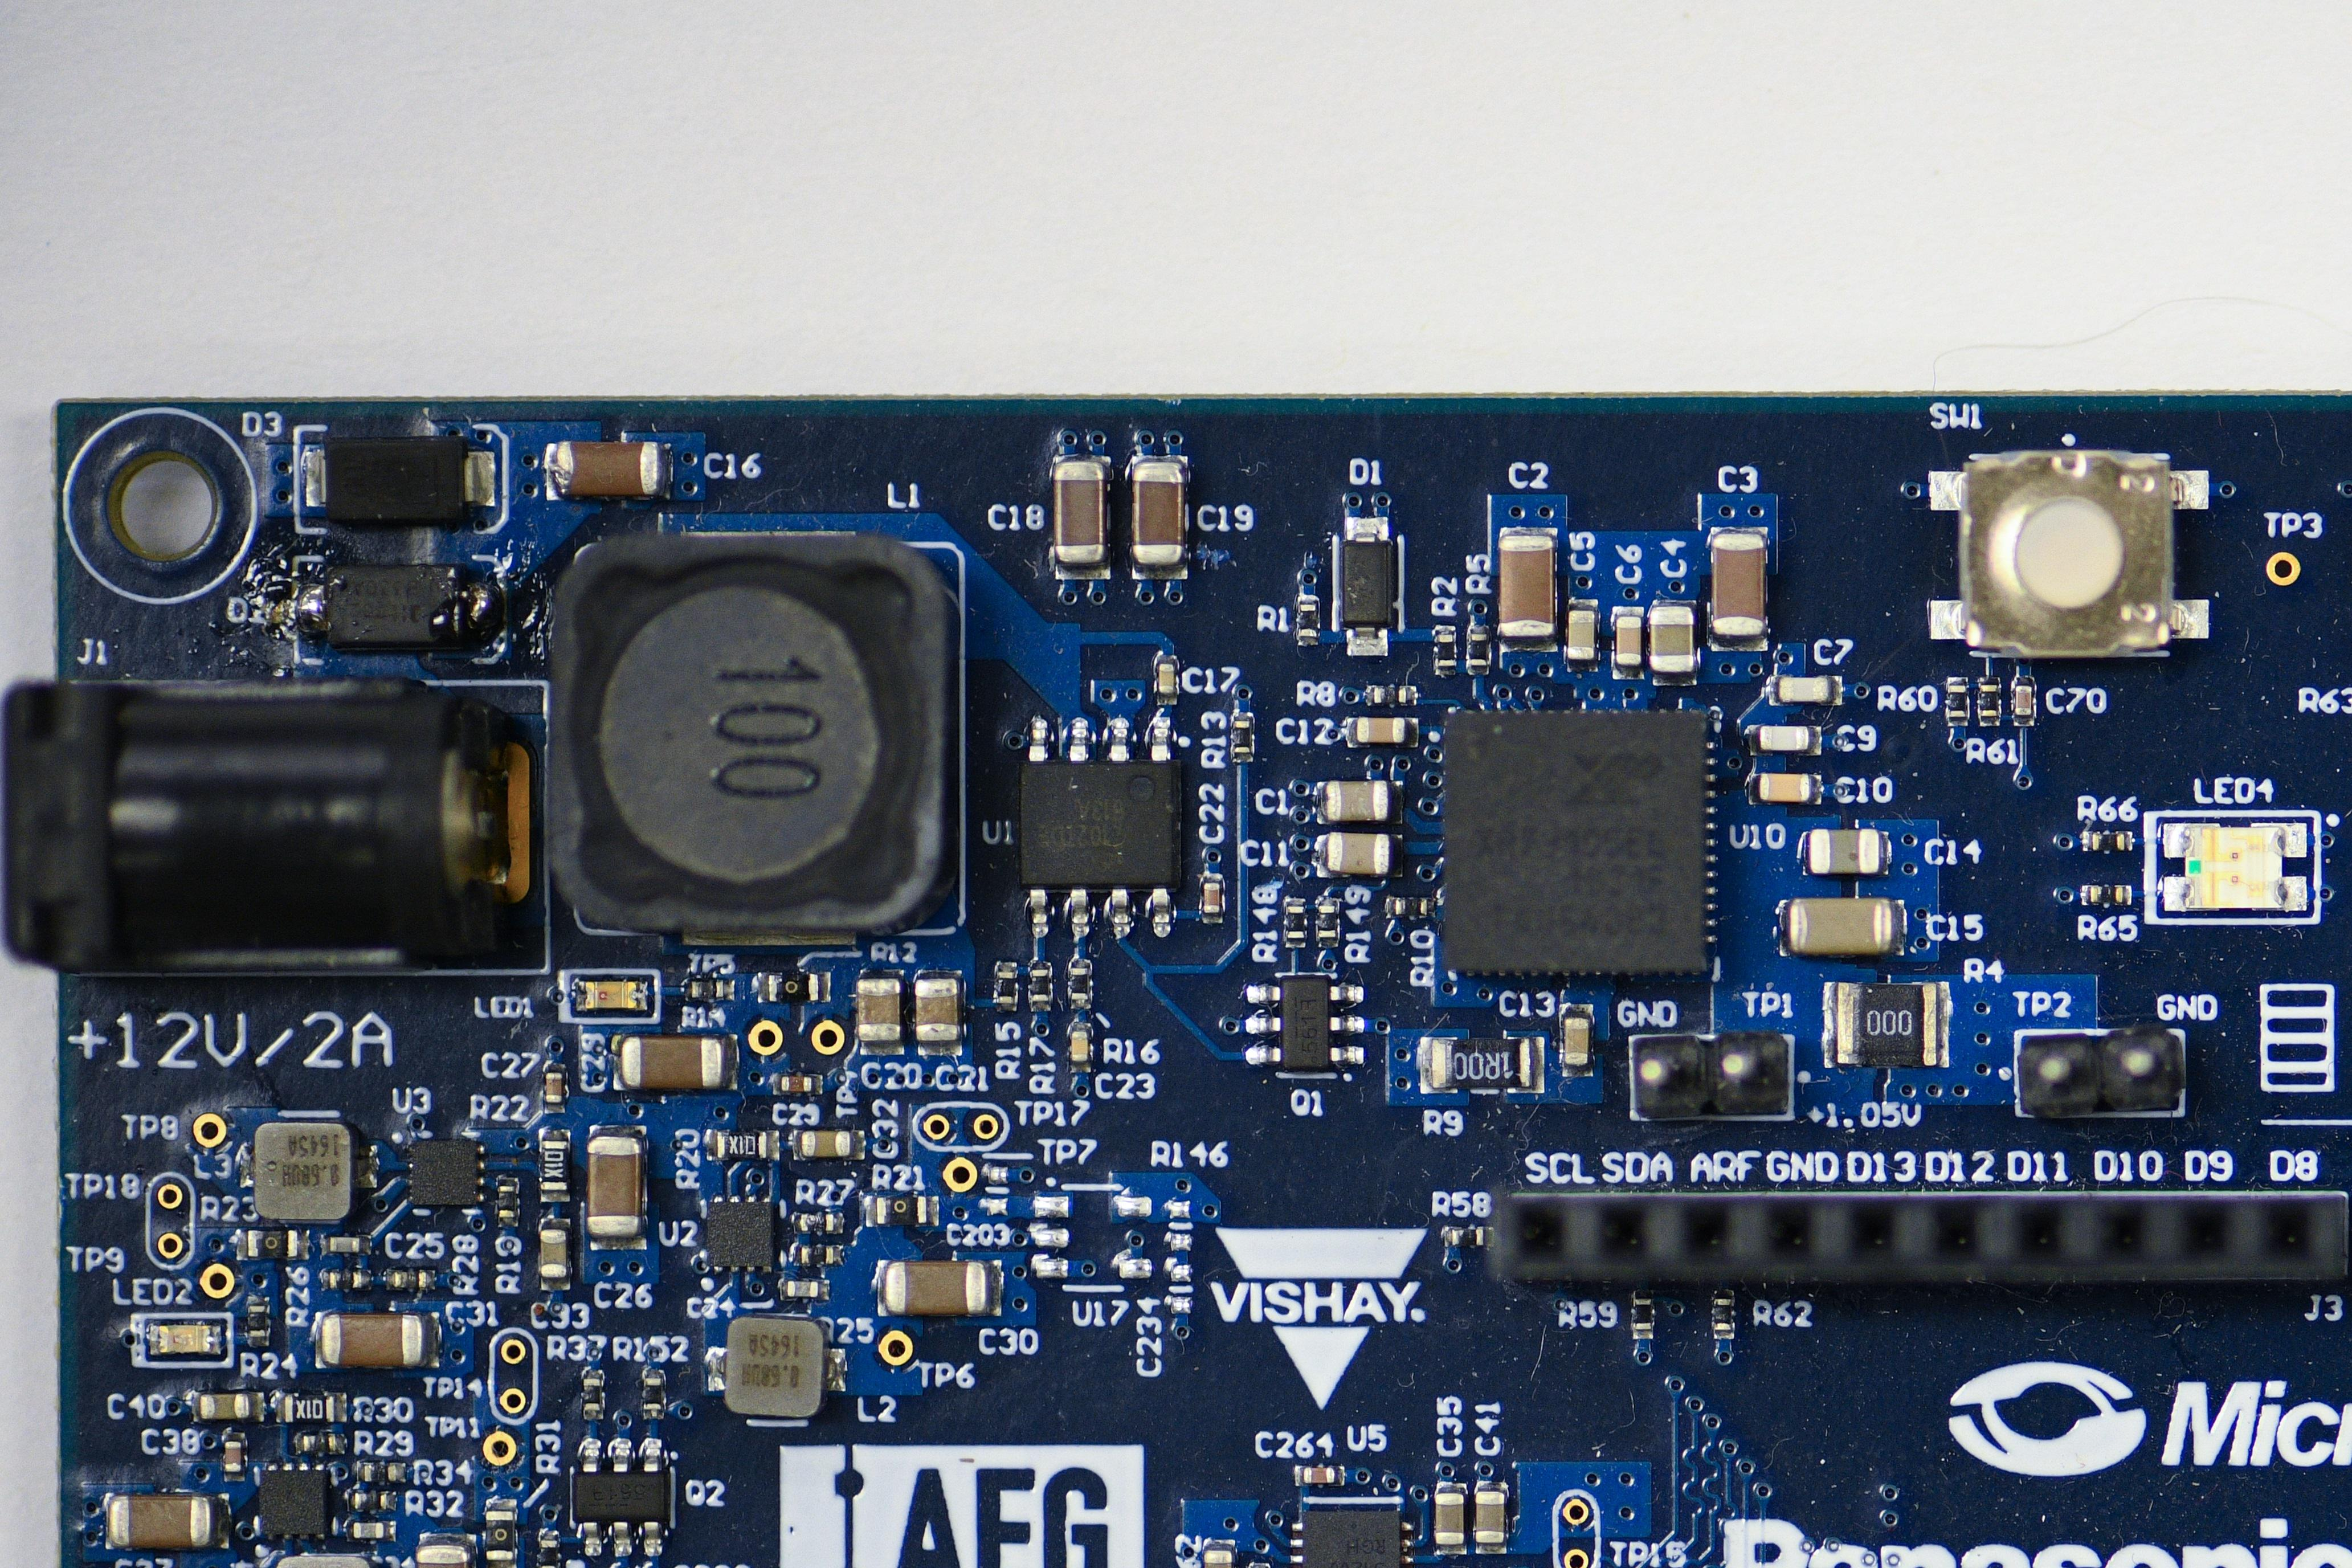ICs: (1438, 703, 1712, 976), (1013, 752, 1185, 898), (700, 1197, 775, 1272), (406, 1136, 483, 1209), (256, 1467, 329, 1536)
capacitors: (1708, 529, 1771, 642), (1048, 453, 1110, 569), (553, 436, 665, 499), (1783, 894, 1895, 957), (1129, 455, 1190, 567), (1494, 529, 1556, 640), (583, 1132, 646, 1241), (880, 1256, 991, 1318), (105, 1491, 213, 1552), (618, 1031, 725, 1092), (318, 1311, 427, 1370), (1645, 600, 1698, 676), (1804, 826, 1881, 877), (852, 975, 903, 1045), (912, 973, 961, 1045), (1323, 828, 1391, 877), (1321, 777, 1389, 823), (1431, 1489, 1467, 1549), (1472, 1487, 1507, 1547), (1755, 770, 1813, 805), (798, 1127, 854, 1160), (194, 1389, 252, 1421), (1776, 672, 1830, 705), (535, 1227, 569, 1281), (1565, 605, 1596, 661), (1755, 723, 1811, 754), (1354, 714, 1407, 747), (1561, 1013, 1592, 1067), (1614, 612, 1643, 669), (413, 1542, 474, 1568), (220, 1437, 245, 1477), (348, 1517, 387, 1542), (782, 1278, 823, 1300), (1155, 660, 1178, 697), (1199, 878, 1222, 915), (1067, 1027, 1090, 1064), (543, 1069, 565, 1106), (1200, 1545, 1237, 1568), (1300, 1463, 1337, 1486), (2013, 681, 2033, 718), (777, 1073, 814, 1094), (326, 1234, 362, 1255)
diodes: (318, 558, 476, 656), (317, 432, 474, 530), (2181, 824, 2286, 912), (1337, 529, 1395, 639), (151, 1321, 217, 1356)
inductors: (543, 527, 963, 942), (721, 1313, 826, 1421), (250, 1118, 355, 1223), (271, 1552, 376, 1568)
resistors: (1832, 978, 1941, 1069), (1298, 1509, 1405, 1568), (1426, 1036, 1535, 1092), (765, 970, 823, 1006), (712, 1127, 770, 1162), (872, 1192, 929, 1227), (243, 1227, 301, 1260), (481, 1509, 516, 1563), (280, 1393, 336, 1426), (539, 1136, 570, 1193), (1313, 901, 1339, 943), (1283, 901, 1309, 943), (1025, 964, 1052, 1006), (1295, 599, 1320, 642), (992, 968, 1019, 1008), (2086, 880, 2126, 906), (1066, 964, 1092, 1003), (1370, 682, 1411, 707), (1391, 894, 1431, 919), (686, 976, 726, 1001), (796, 1242, 837, 1267), (579, 1376, 604, 1416), (326, 1267, 366, 1291), (1944, 681, 1969, 721), (2088, 829, 2128, 854), (1976, 682, 2002, 719), (1467, 630, 1491, 669), (640, 1374, 665, 1412), (243, 1302, 268, 1340), (1629, 1295, 1654, 1333), (1710, 1295, 1734, 1333), (1435, 630, 1458, 670), (796, 1211, 837, 1234), (299, 1431, 339, 1454), (1230, 718, 1253, 756), (495, 1181, 518, 1220), (390, 1267, 429, 1290), (361, 1461, 399, 1484), (350, 1489, 388, 1512), (537, 1536, 560, 1568), (1246, 1566, 1271, 1568)
transistors: (569, 1467, 674, 1533), (1274, 973, 1335, 1074)
